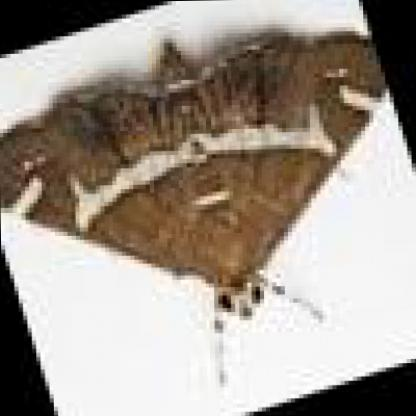Leaf Webber: (3, 22, 389, 324)
